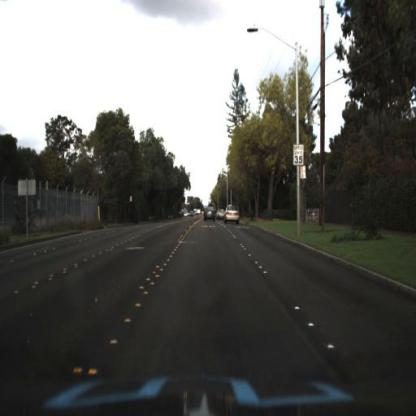car: (223, 205, 244, 228), (202, 202, 218, 225)
